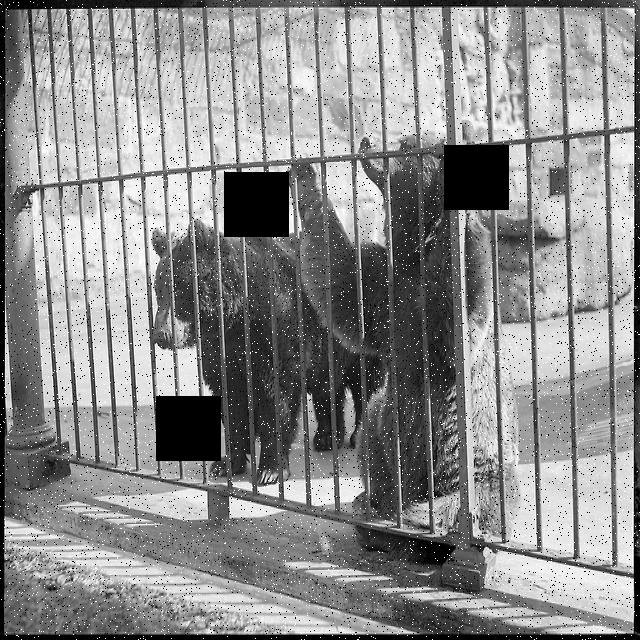Bear: (286, 105, 539, 537), (140, 203, 400, 454)
